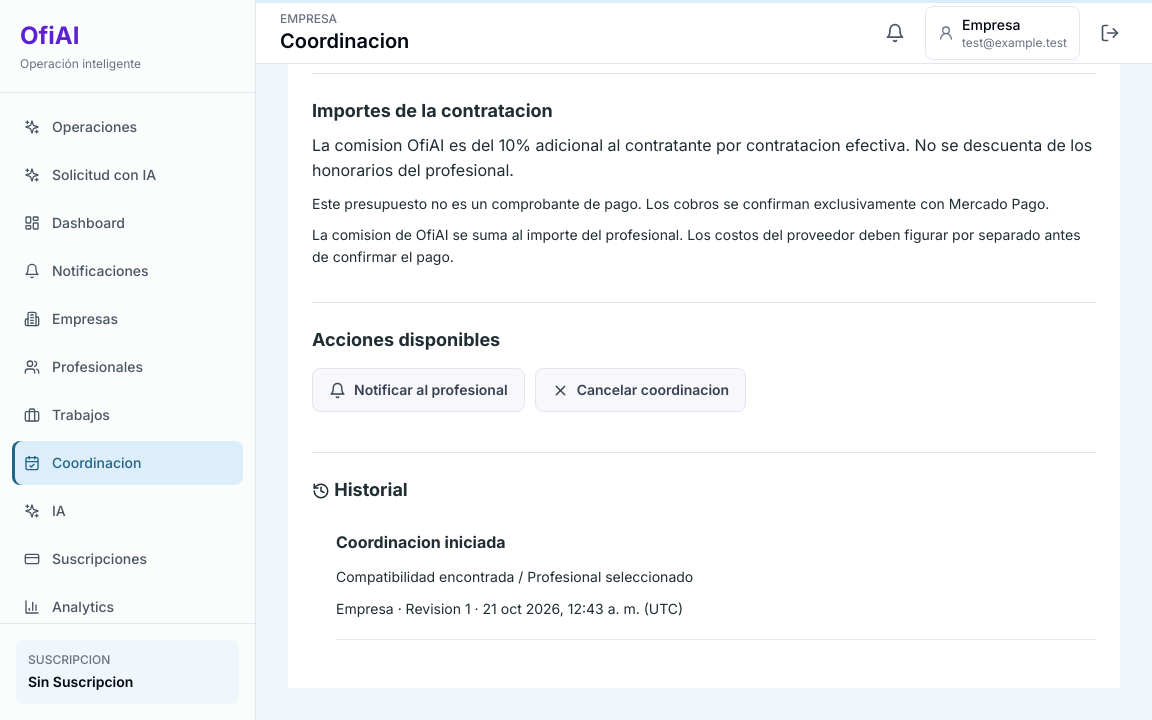
Test: preserva cuerpo y revision en reintentos HTTP 503 incluso tras GET
(page scrolled)
Click the button "Notificar al profesional".
click(418, 390)  # box x1=312 y1=368 x2=525 y2=412
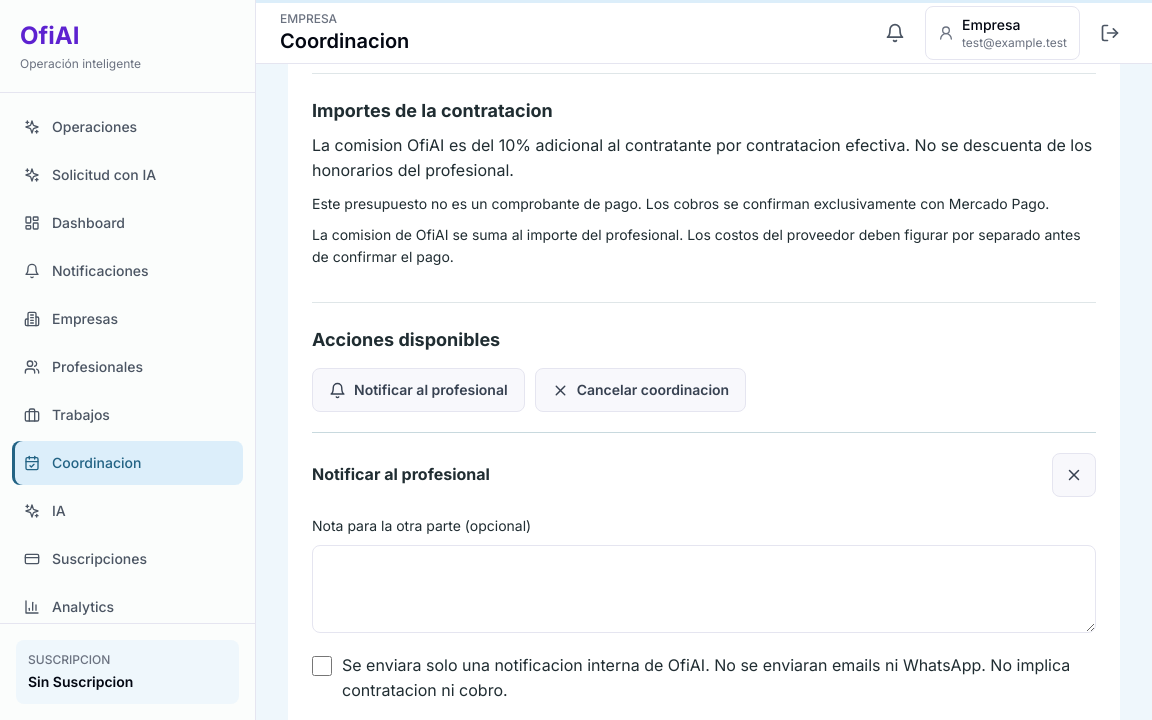
Click the checkbox.
click(322, 666)  # box x1=312 y1=656 x2=332 y2=676
(page scrolled)
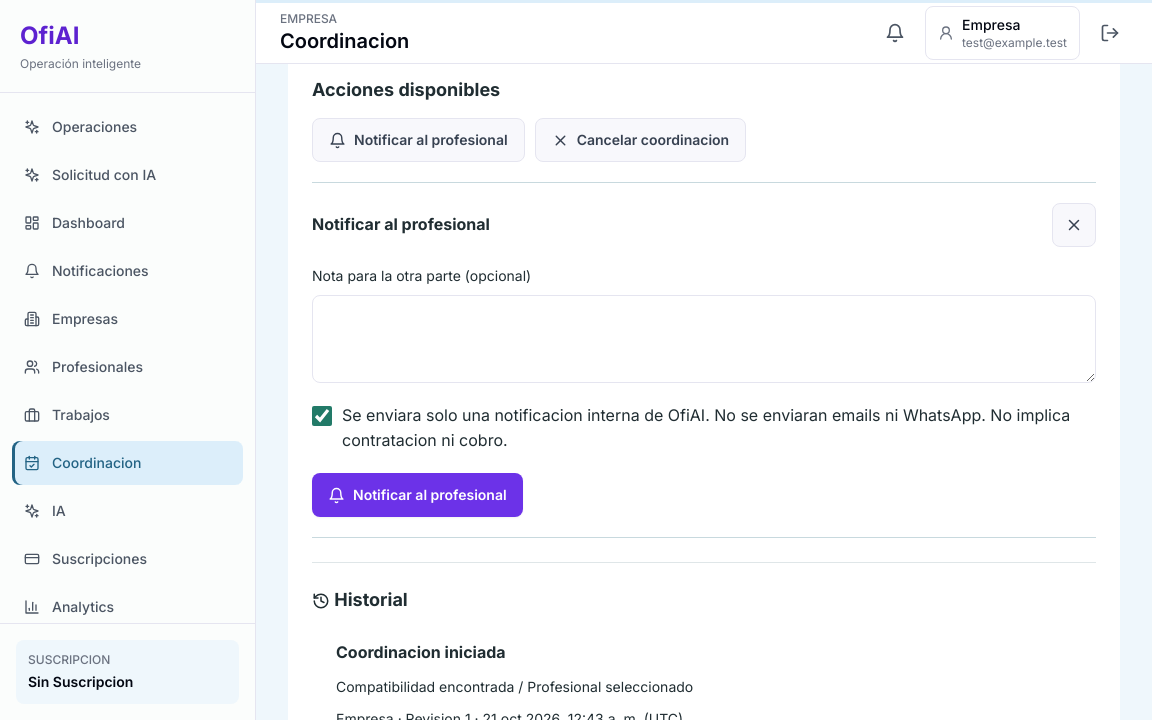
Submit the form "Notificar al profesional", box x1=312 y1=182 x2=1096 y2=538
(page scrolled)
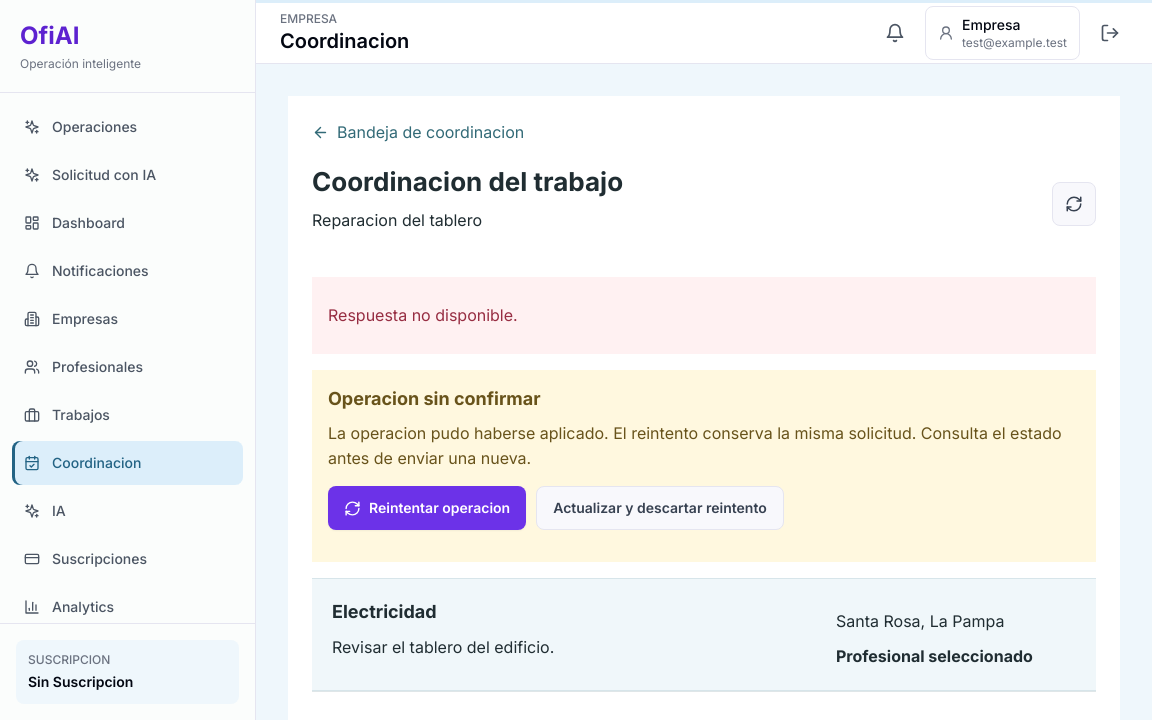
Result: the heading "Operacion sin confirmar" is shown at x1=328 y1=388 x2=541 y2=409
Click the button named "Actualizar coordinacion".
click(1074, 204)  # box x1=1052 y1=182 x2=1096 y2=226
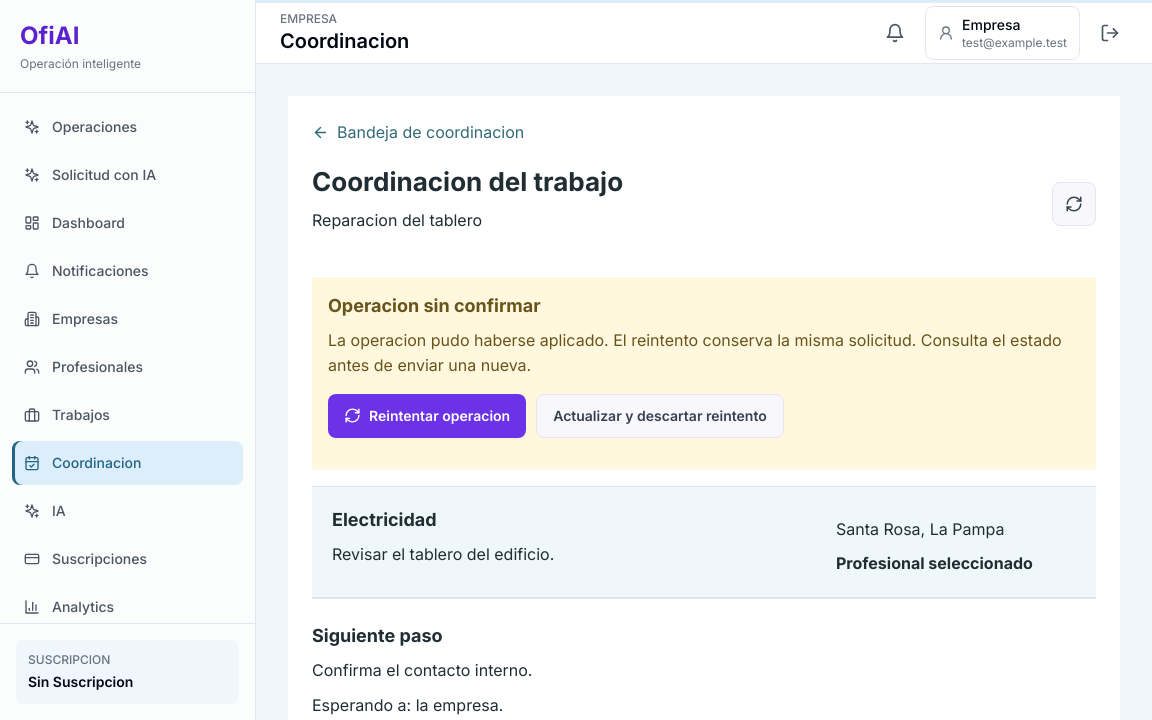
Click the button "Reintentar operacion".
click(427, 416)  # box x1=328 y1=394 x2=526 y2=438
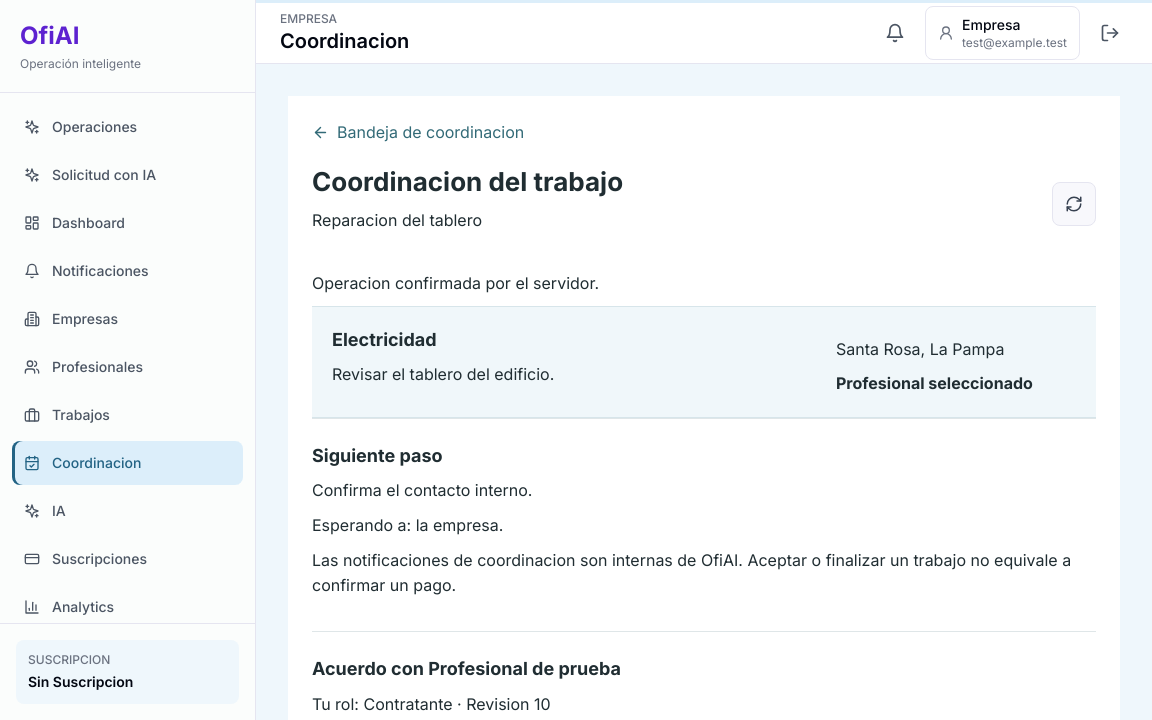
Result: the text "Operacion confirmada por el servidor." is shown at x1=312 y1=273 x2=599 y2=293
